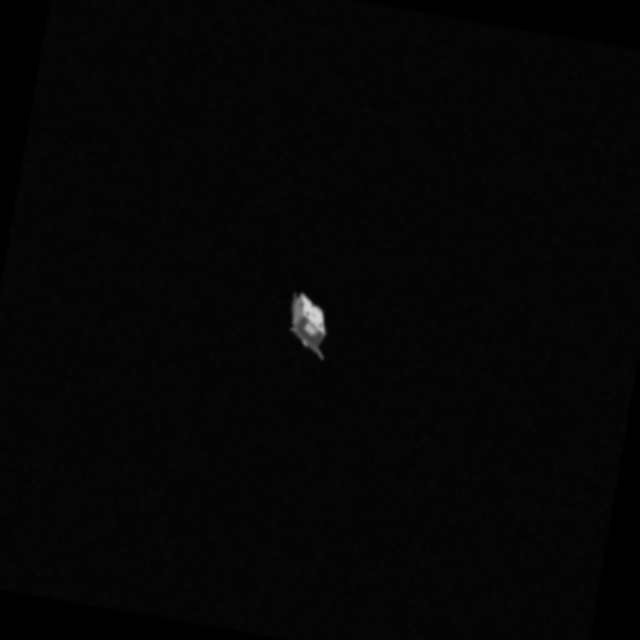medium_debris: (265, 282, 341, 370)
